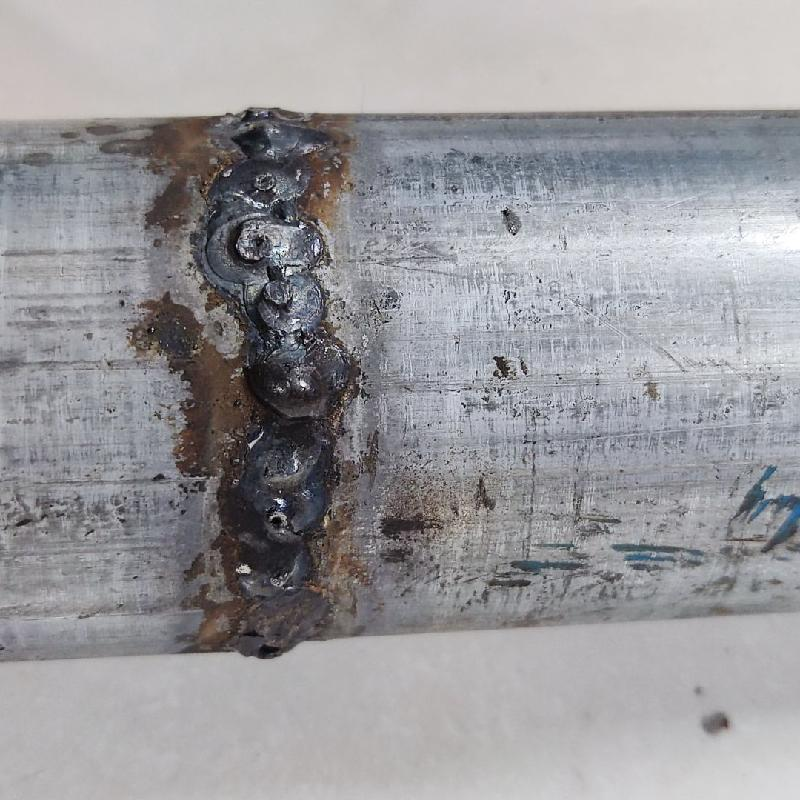Surface_pores: (238, 631, 303, 665), (254, 504, 299, 540)
Weld: (233, 355, 361, 423)
wrong_size: (211, 100, 347, 351), (225, 431, 343, 669)
